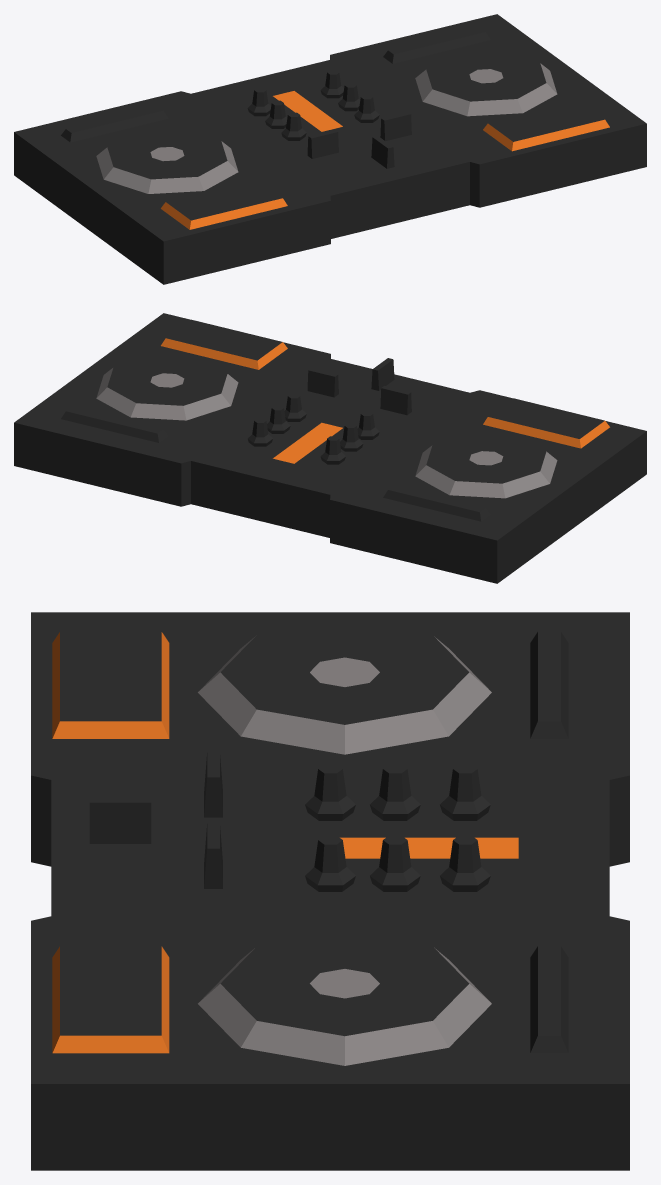
File: dj-controller.glb
The picture shows the model from 3 angles, top to bottom: view 1: azimuth 30°, elevation 25°; view 2: azimuth 150°, elevation 25°; view 3: azimuth 270°, elevation 25°; orthographic projection. The views are drawn at different scales.
Parts seen in each view (by area): view 1: dj-controller; view 2: dj-controller; view 3: dj-controller.
Boxes of the visible parts, x1,y1,x2,y2 form: dj-controller: (14, 14, 646, 284); dj-controller: (14, 313, 646, 583); dj-controller: (31, 612, 629, 1170).
Size of the model in its own units: 0.77 by 0.1027 by 0.413.
1 material, 1 textured.
